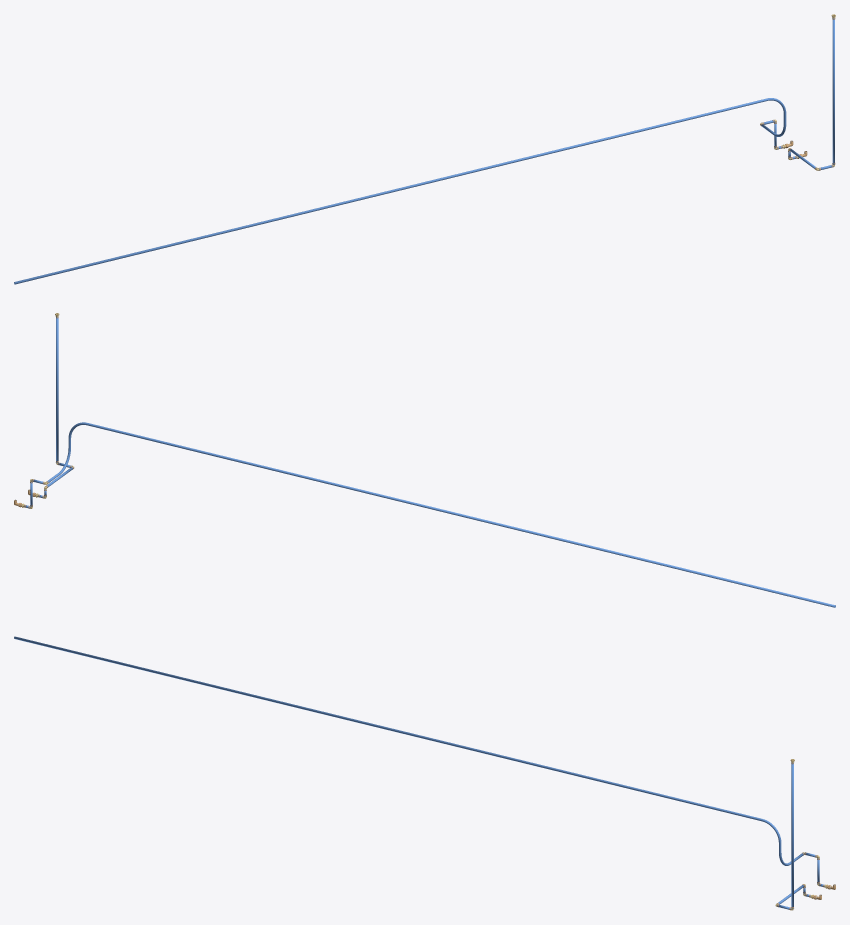
Rendered from pipes_supply__softener-yes_and_plumbing-pex.glb.
3 views of the same model, one above another, from view 1: azimuth 30°, elevation 25°; view 2: azimuth 150°, elevation 25°; view 3: azimuth 330°, elevation 25° (orthographic).
Parts seen in each view (by area): view 1: pipe_supply_from_softener__pex, pipe_supply_softener_feed__pex; view 2: pipe_supply_from_softener__pex, pipe_supply_softener_feed__pex; view 3: pipe_supply_from_softener__pex, pipe_supply_softener_feed__pex.
Boxes of the visible parts, left/top/right/bottom form: pipe_supply_from_softener__pex: left=14, top=98, right=786, bottom=284; pipe_supply_softener_feed__pex: left=788, top=18, right=834, bottom=169; pipe_supply_from_softener__pex: left=24, top=422, right=835, bottom=607; pipe_supply_softener_feed__pex: left=38, top=317, right=73, bottom=497; pipe_supply_from_softener__pex: left=14, top=636, right=824, bottom=886; pipe_supply_softener_feed__pex: left=777, top=762, right=810, bottom=909.
Size of the model in its own units: 7.92 by 1.53 by 0.7567.
